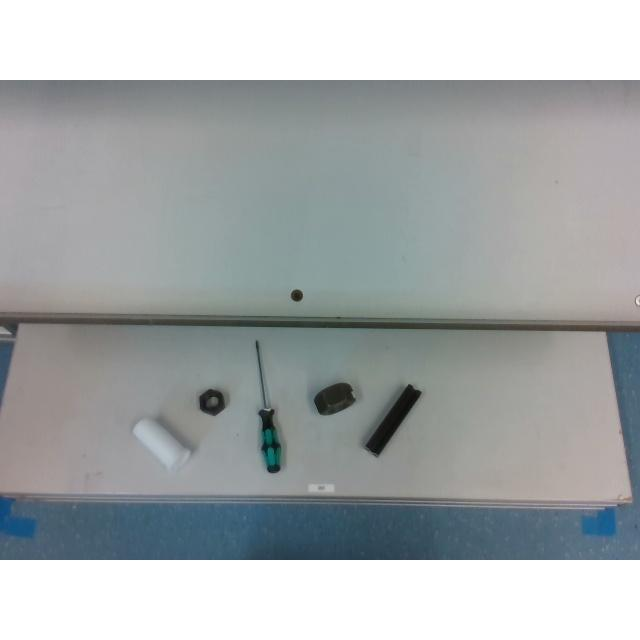F20_20_B: (364, 384, 421, 456)
M20: (199, 389, 225, 415)
M30: (314, 382, 354, 414)
Screwdriver: (256, 342, 280, 473)
Spacer: (132, 418, 190, 472)
